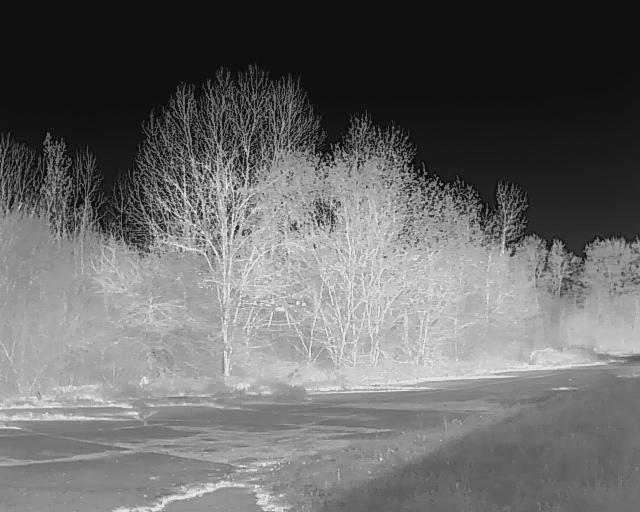drone: (244, 295, 314, 331)
